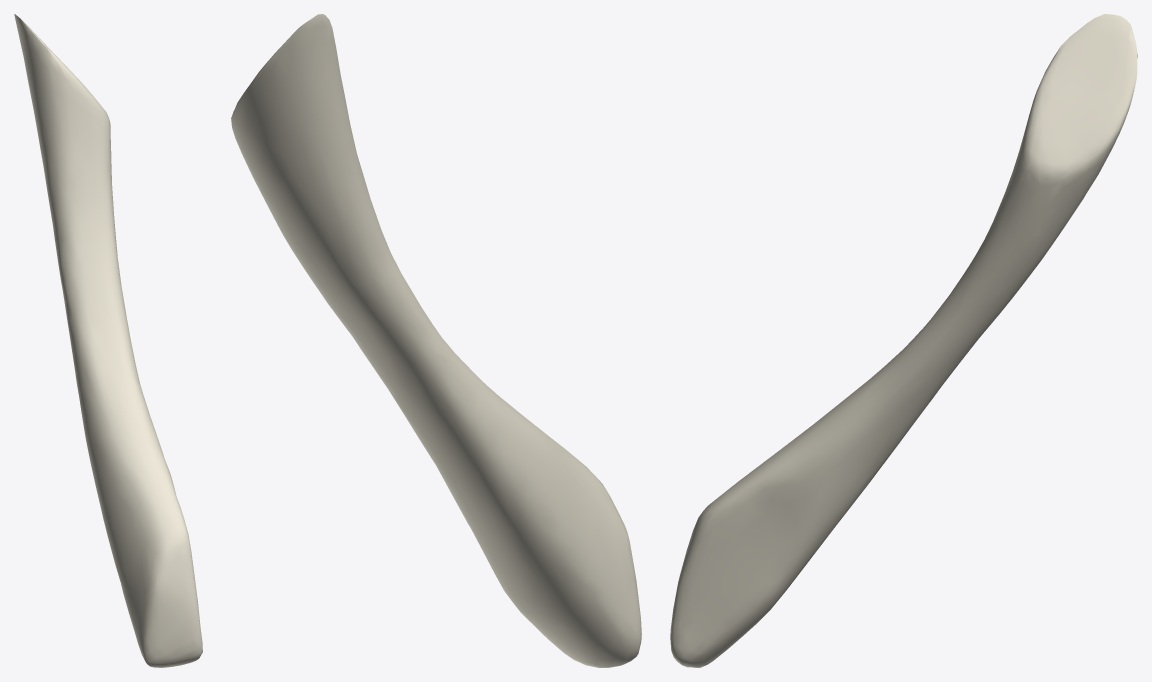
The model's file is fma57084_mm1341m.glb.
3 renders of one model, left to right at view 1: azimuth 30°, elevation 25°; view 2: azimuth 150°, elevation 25°; view 3: azimuth 270°, elevation 25°, orthographic. The views are drawn at different scales.
Parts seen in each view (by area): view 1: FMA57084_MM1341M; view 2: FMA57084_MM1341M; view 3: FMA57084_MM1341M.
Boxes of the visible parts, x1=… form: FMA57084_MM1341M: x1=14, y1=14, x2=202, y2=667; FMA57084_MM1341M: x1=231, y1=14, x2=641, y2=667; FMA57084_MM1341M: x1=670, y1=14, x2=1137, y2=667.
Bounding box in the file's own units: 0.00624 × 0.0297 × 0.0192.
